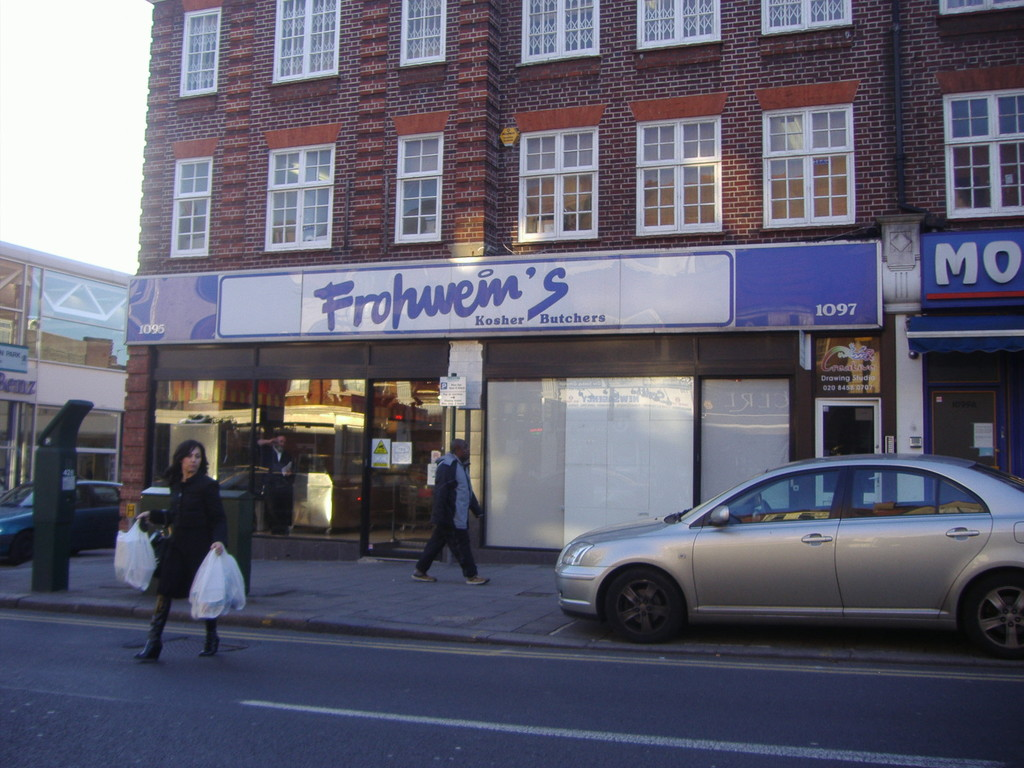cars: (556, 446, 1023, 658), (0, 479, 124, 567)
